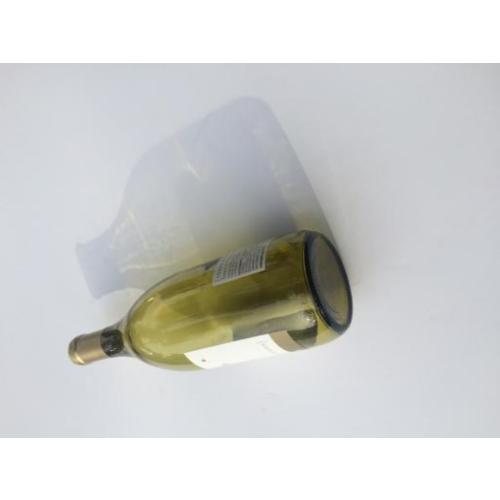glass: (77, 230, 349, 374)
